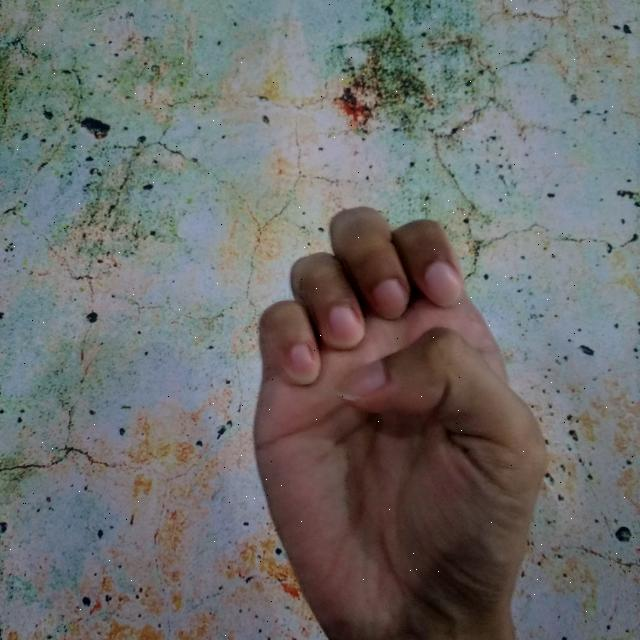E: (256, 202, 546, 640)
